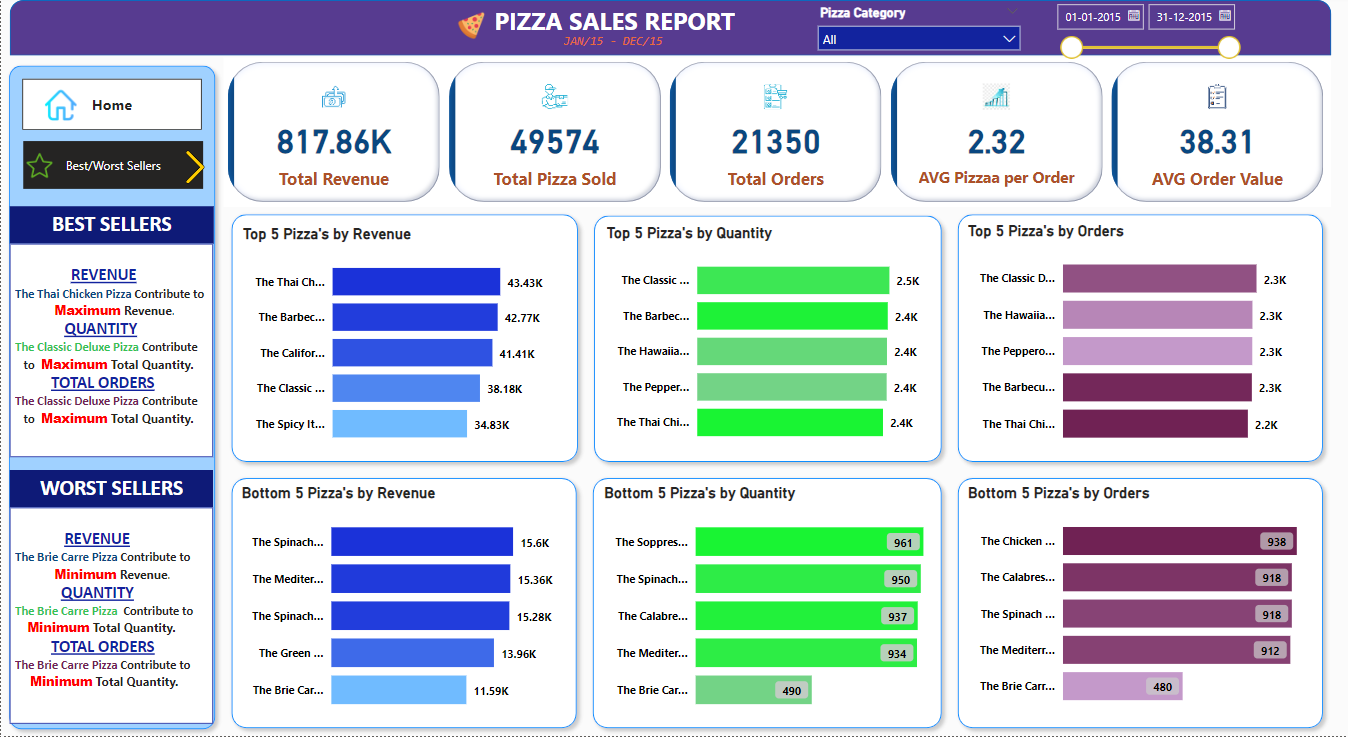

This screenshot's page, from the dashboard's own definition file:
{"tool":"powerbi","page":{"name":"Best/Worst Sellers","canvas":[1500,820],"ordinal":1},"visuals":[{"type":"shape","box":[9.9,0,1471.8,62],"z":0,"group":"g1"},{"type":"cardVisual","fields":{"Data":["pizza_sales.Total Reveue","pizza_sales.Total Pizza Sold","pizza_sales.Total Orders","pizza_sales.Avg Pizzaa per Order","pizza_sales.AVG Order Value"]},"box":[247.6,63.5,1233.3,166.7],"z":0},{"type":"group","id":"g1","title":"Group 1","box":[9.9,0,1471.8,62],"z":1000},{"type":"textbox","box":[537.4,0,291.8,62],"z":1000,"group":"g1"},{"type":"textbox","box":[612.7,31,138,31],"z":2000},{"type":"image","box":[483.6,8,81.9,40.2],"z":3000},{"type":"shape","box":[247.8,229.7,403.7,293.8],"z":4000},{"type":"shape","box":[1056.7,229.7,424.6,293.8],"z":5000},{"type":"shape","box":[247.8,523.5,402.3,296.5],"z":6000},{"type":"shape","box":[1056.7,523.5,424.6,296.5],"z":7000},{"type":"shape","box":[650.2,523.5,406.5,296.5],"z":8000},{"type":"shape","box":[0,63.5,247.6,757.1],"z":9000},{"type":"textbox","box":[9.5,230.2,227,41.3],"z":10000},{"type":"textbox","box":[9.6,271.5,226.5,237.8],"z":11000},{"type":"textbox","box":[9.6,523.8,226.5,41.8],"z":12000},{"type":"textbox","box":[9.6,565.6,226.5,241],"z":13000},{"type":"slicer","fields":{"Values":["pizza_sales.pizza_category"]},"box":[900,0,246,57.1],"z":14000},{"type":"slicer","fields":{"Values":["pizza_sales.order_date"]},"box":[1163.2,0,224.9,78.7],"z":15000},{"type":"shape","box":[651.5,231.1,405.1,292.4],"z":16000},{"type":"barChart","title":"Top 5 Pizza''s by Revenue","fields":{"Category":["pizza_sales.pizza_name"],"Y":["pizza_sales.Total Reveue"]},"box":[265.1,250.6,367.9,258.7],"z":17000},{"type":"barChart","title":"Bottom 5 Pizza''s by Revenue","fields":{"Category":["pizza_sales.pizza_name"],"Y":["pizza_sales.Total Reveue"]},"box":[263.5,538.2,369.5,268.3],"z":18000},{"type":"barChart","title":"Top 5 Pizza''s by Quantity","fields":{"Category":["pizza_sales.pizza_name"],"Y":["pizza_sales.Total Pizza Sold"]},"box":[670,249,372.8,258.7],"z":19000},{"type":"barChart","title":"Bottom 5 Pizza''s by Quantity","fields":{"Category":["pizza_sales.pizza_name"],"Y":["pizza_sales.Total Pizza Sold"]},"box":[666.8,538.2,376,268.3],"z":20000},{"type":"barChart","title":"Top 5 Pizza''s by Orders","fields":{"Category":["pizza_sales.pizza_name"],"Y":["pizza_sales.Total Orders"]},"box":[1071.7,245.8,393.6,263.5],"z":21000},{"type":"barChart","title":"Bottom 5 Pizza''s by Orders","fields":{"Category":["pizza_sales.pizza_name"],"Y":["pizza_sales.Total Orders"]},"box":[1071.7,538.2,393.6,263.5],"z":21001},{"type":"pageNavigator","box":[25.7,157.5,200.8,53],"z":21002},{"type":"pageNavigator","box":[24.1,88.4,200.8,57.8],"z":21003},{"type":"image","box":[41.8,94.8,49.8,45],"z":21004},{"type":"image","box":[170.3,162.3,93.2,46.6],"z":21005},{"type":"image","box":[24.1,163.9,38.6,40.2],"z":21006}]}

Visuals, with their boxes in screenshot pixels (x1, y1, x2, y2), scaled from the page's 1500x820 canvas onto the 1348x737 screenshot:
shape: Rect(9, 0, 1332, 56)
cardVisual - pizza_sales.Total Reveue x pizza_sales.Total Pizza Sold: Rect(223, 57, 1331, 207)
"Group 1" group: Rect(9, 0, 1332, 56)
textbox: Rect(483, 0, 745, 56)
textbox: Rect(551, 28, 675, 56)
image: Rect(435, 7, 508, 43)
shape: Rect(223, 206, 585, 471)
shape: Rect(950, 206, 1331, 471)
shape: Rect(223, 471, 584, 736)
shape: Rect(950, 471, 1331, 736)
shape: Rect(584, 471, 950, 736)
shape: Rect(0, 57, 223, 736)
textbox: Rect(9, 207, 213, 244)
textbox: Rect(9, 244, 212, 458)
textbox: Rect(9, 471, 212, 508)
textbox: Rect(9, 508, 212, 725)
slicer - pizza_sales.pizza_category: Rect(809, 0, 1030, 51)
slicer - pizza_sales.order_date: Rect(1045, 0, 1247, 71)
shape: Rect(585, 208, 950, 471)
"Top 5 Pizza''s by Revenue" barChart: Rect(238, 225, 569, 458)
"Bottom 5 Pizza''s by Revenue" barChart: Rect(237, 484, 569, 725)
"Top 5 Pizza''s by Quantity" barChart: Rect(602, 224, 937, 456)
"Bottom 5 Pizza''s by Quantity" barChart: Rect(599, 484, 937, 725)
"Top 5 Pizza''s by Orders" barChart: Rect(963, 221, 1317, 458)
"Bottom 5 Pizza''s by Orders" barChart: Rect(963, 484, 1317, 721)
pageNavigator: Rect(23, 142, 204, 189)
pageNavigator: Rect(22, 79, 202, 131)
image: Rect(38, 85, 82, 126)
image: Rect(153, 146, 237, 188)
image: Rect(22, 147, 56, 183)
